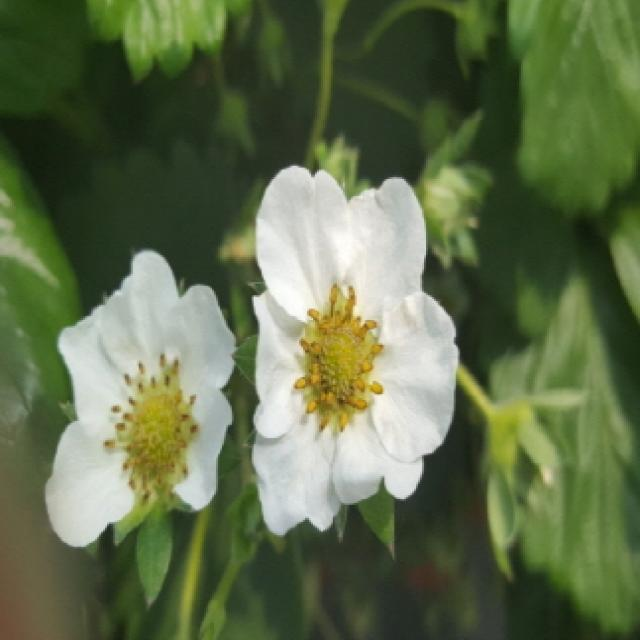Blossom Blight: (100, 349, 205, 507), (286, 279, 389, 434)
